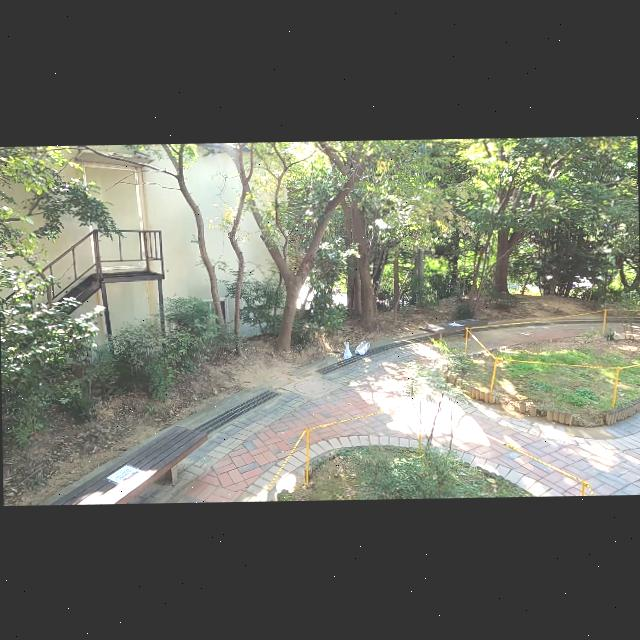trash: (354, 339, 370, 356), (342, 338, 351, 359)
